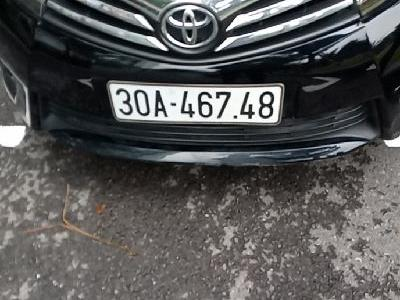lisence: (106, 81, 284, 128)
